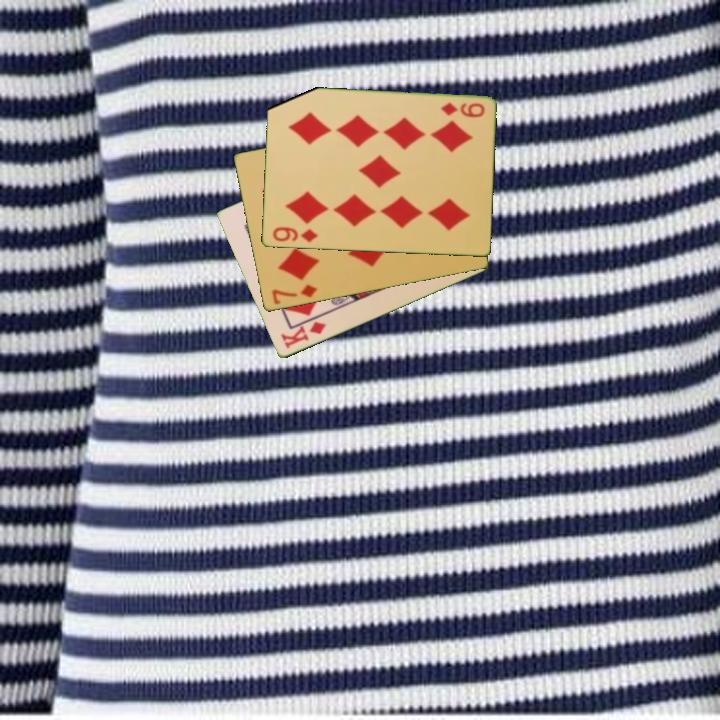7d: (268, 281, 320, 308)
9d: (269, 224, 320, 245), (437, 99, 487, 120)
Kd: (277, 318, 329, 352)
